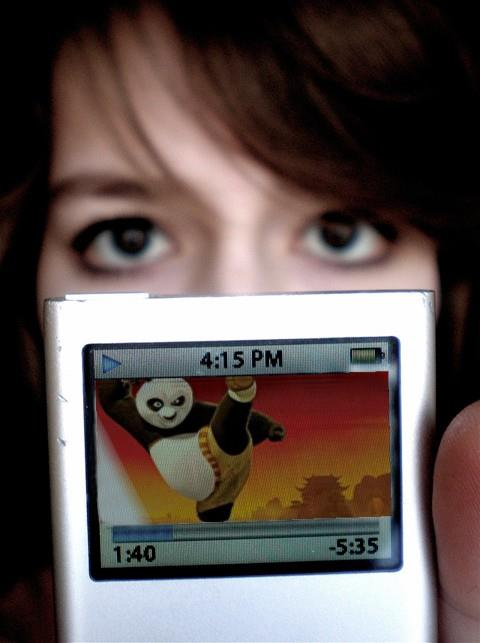Kung_Fu_Panda: (94, 346, 319, 526)
